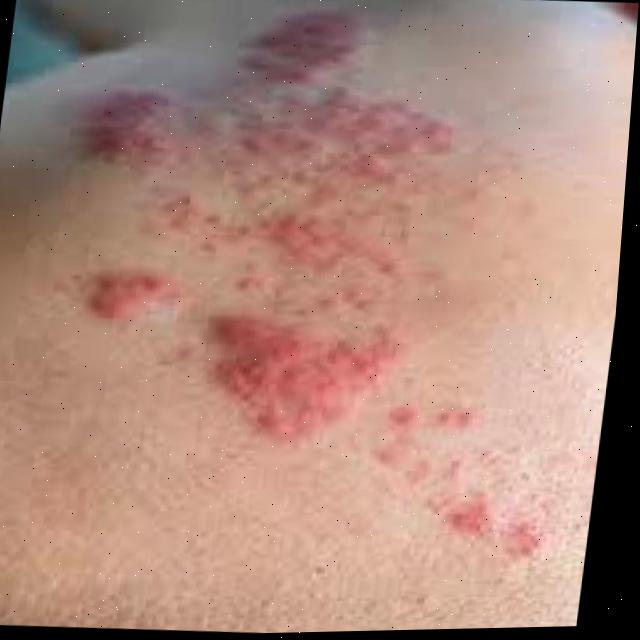Eczema: (78, 50, 410, 466), (424, 487, 516, 557)
